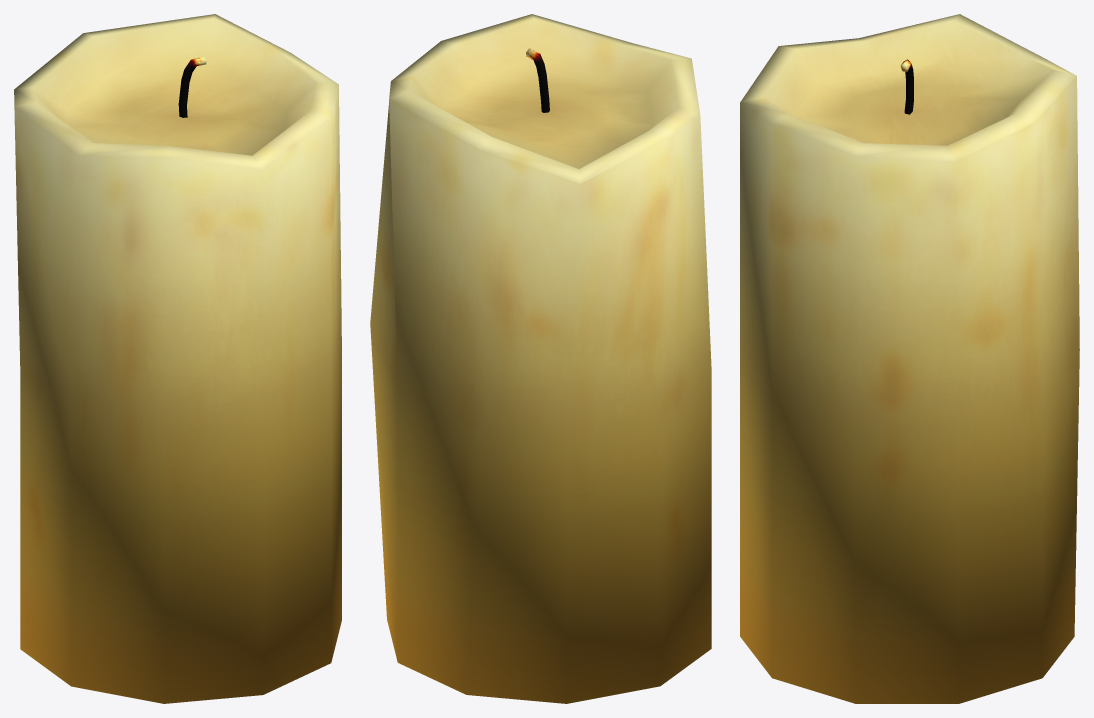
File: Candle.fbx
3 renders of one model, left to right at view 1: azimuth 30°, elevation 25°; view 2: azimuth 150°, elevation 25°; view 3: azimuth 270°, elevation 25°, orthographic.
Parts seen in each view (by area): view 1: Candle; view 2: Candle; view 3: Candle.
Boxes of the visible parts, x1,y1,x2,y2 form: Candle: (14,14,341,703); Candle: (370,14,711,703); Candle: (740,14,1079,703).
Bounding box in the file's own units: 207 × 386 × 203.
